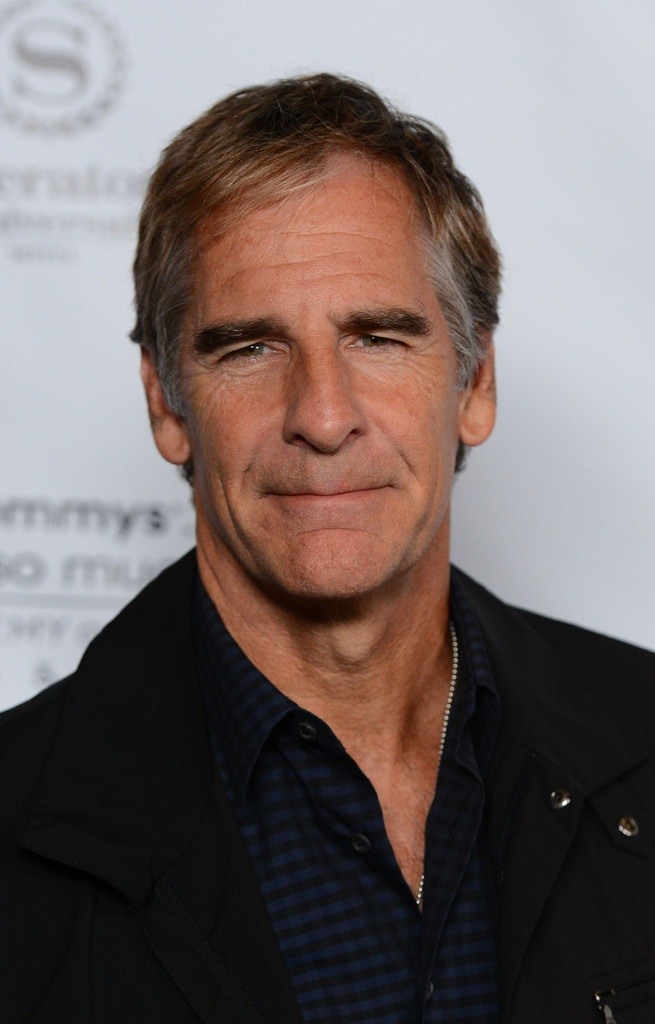bad: (170, 277, 491, 598)
